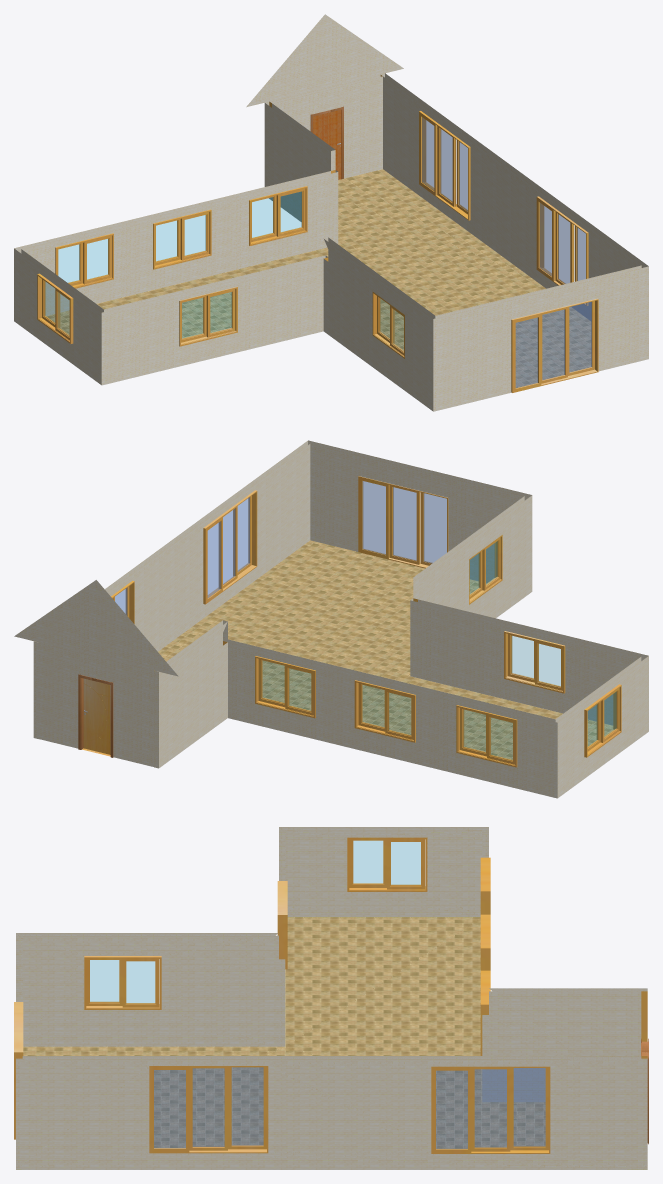
File: telhado46a.gltf
The picture shows the model from 3 angles, top to bottom: view 1: azimuth 30°, elevation 25°; view 2: azimuth 150°, elevation 25°; view 3: azimuth 270°, elevation 25°; orthographic projection. The views are drawn at different scales.
Parts seen in each view (by area): view 1: root; view 2: root; view 3: root.
Part boxes in pixels (x1,y1,x2,y2): root: (14,14,648,411); root: (14,440,648,798); root: (14,827,648,1169).
Bounding box in the file's own units: 14.48 × 5.03 × 14.5.
Materials: 13 (7 with a texture image).
